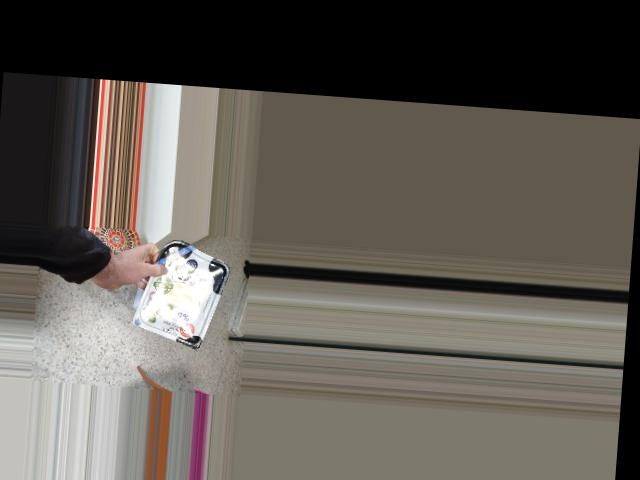cheese: (148, 244, 221, 338)
